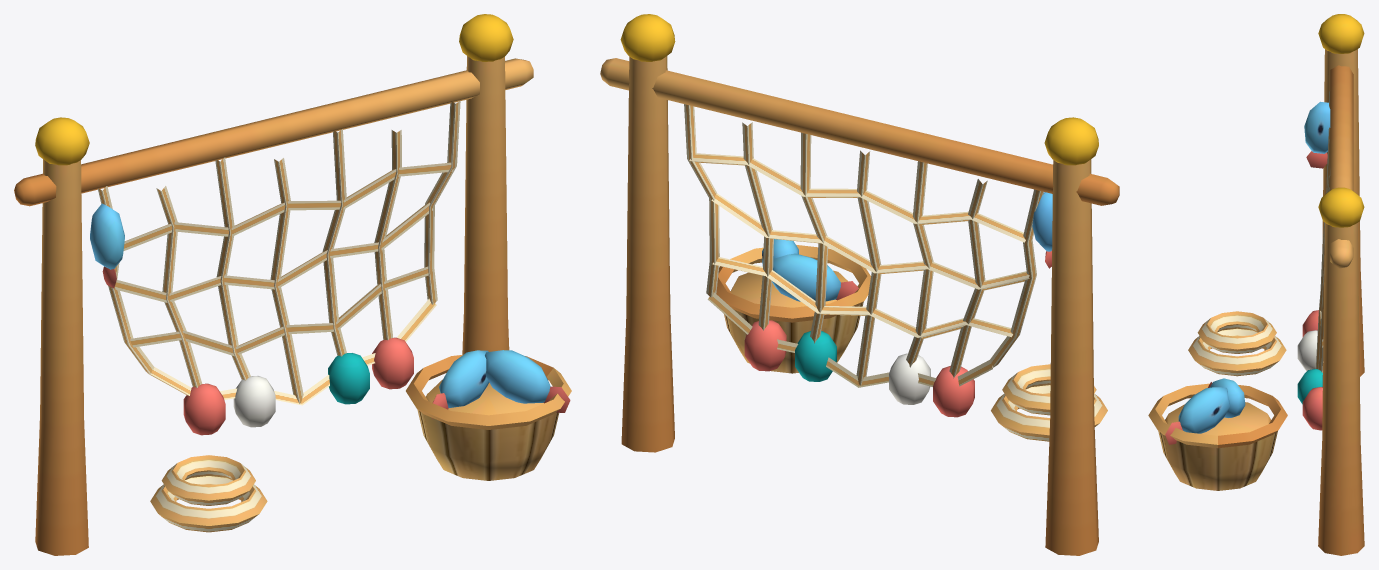
Rendered from net_rack.glb.
3 views of the same model, side by side, from view 1: azimuth 30°, elevation 25°; view 2: azimuth 150°, elevation 25°; view 3: azimuth 270°, elevation 25° (orthographic). The views are drawn at different scales.
Parts seen in each view (by area): view 1: net_rack; view 2: net_rack; view 3: net_rack.
Part boxes in pixels (x1,y1,x2,y2): net_rack: (14, 14, 571, 555); net_rack: (600, 14, 1119, 555); net_rack: (1148, 14, 1364, 555).
Size of the model in its own units: 3.66 by 2.87 by 1.58.
Materials: 2 (2 with a texture image).
